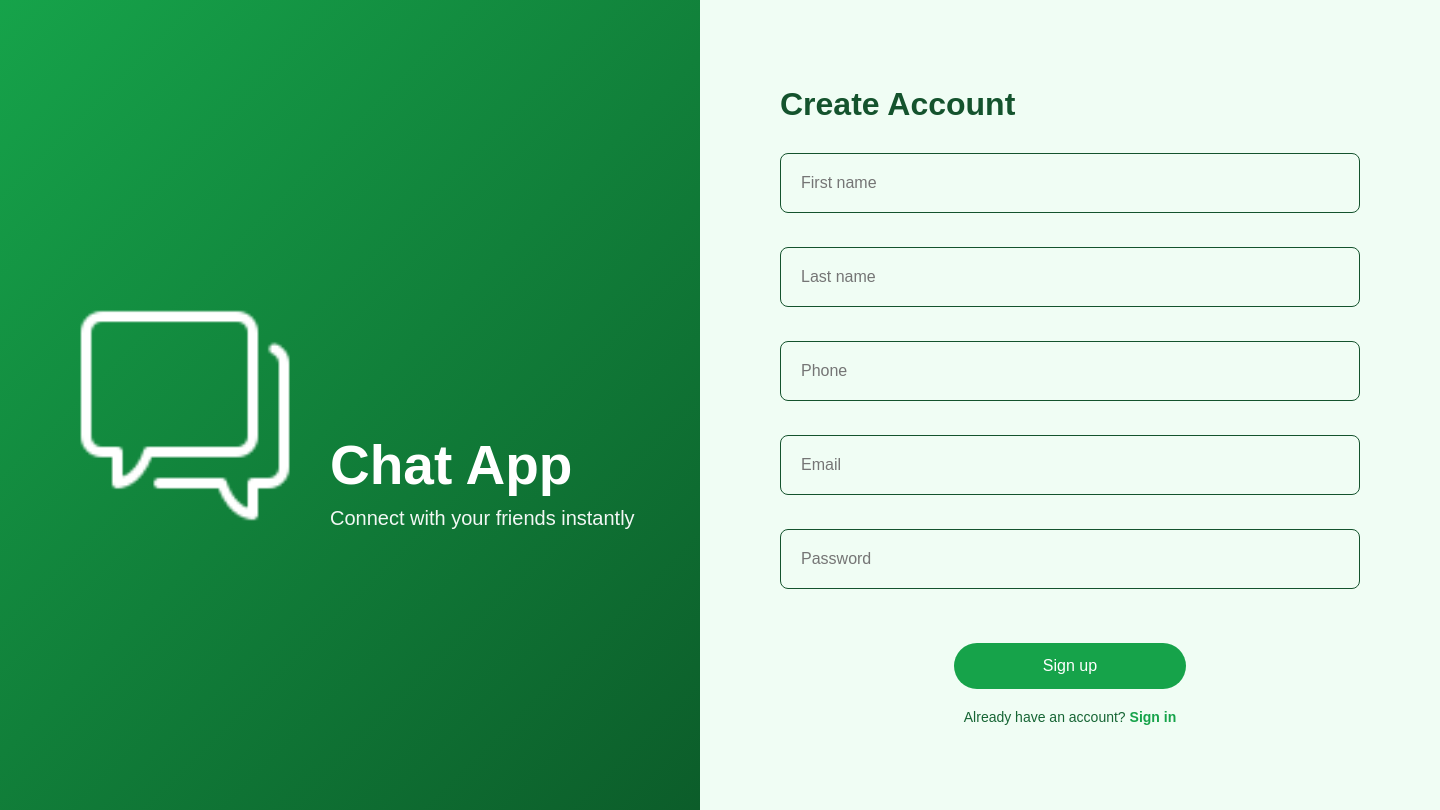
Signup Component › should show validation errors on invalid submit
Click the button "Sign up": (1070, 666) [954,642,1186,688]
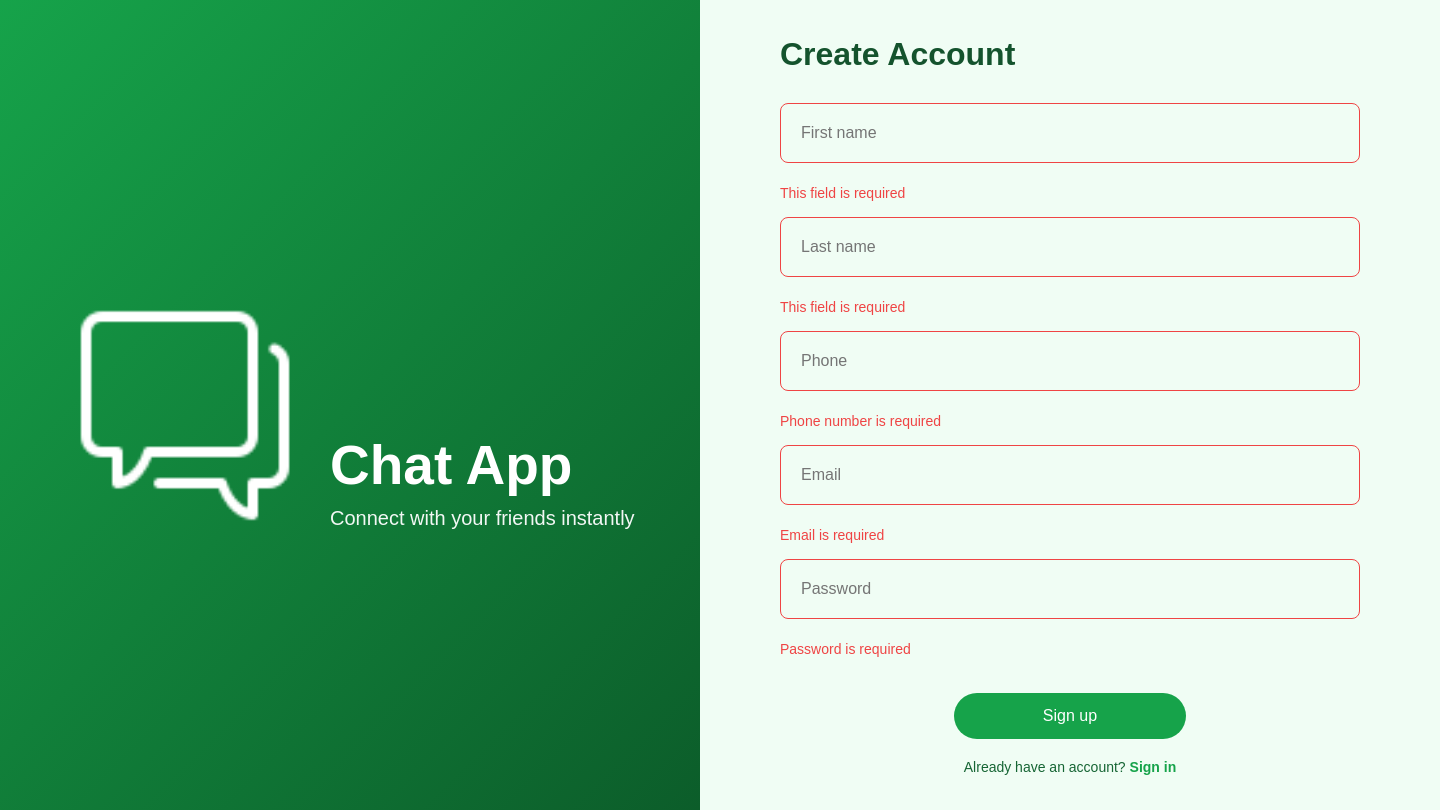
Expected: the 1st text "This field is required" is shown, [780,184,905,200]
Expected: the text "Phone number is required" is shown, [780,412,941,428]
Expected: the text "Email is required" is shown, [780,526,884,542]
